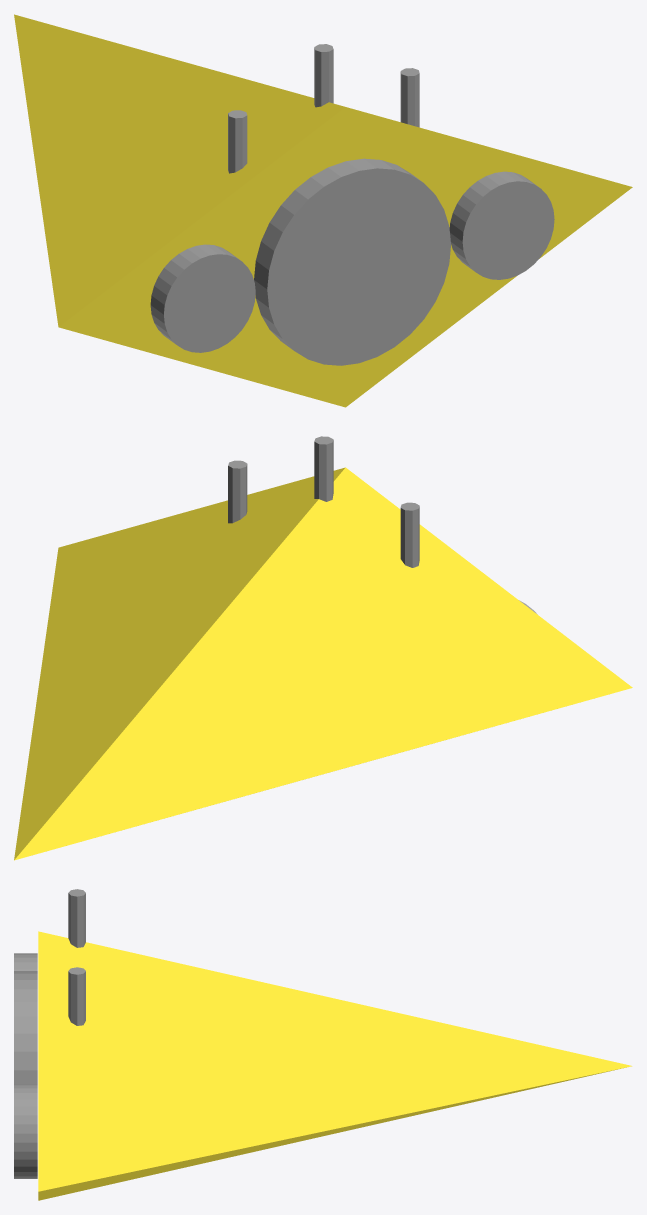
Rendered from spaceship.glb.
3 views of the same model, one above another, from view 1: azimuth 30°, elevation 25°; view 2: azimuth 150°, elevation 25°; view 3: azimuth 270°, elevation 25° (orthographic). The views are drawn at different scales.
Visible parts, largest first — view 1: shipBody, mainThruster, smallThruster, sideAntenna, Antenna; view 2: shipBody, sideAntenna, Antenna; view 3: shipBody, smallThruster, mainThruster, sideAntenna, Antenna.
Boxes of the visible parts, x1,y1,x2,y2 form: shipBody: [14, 14, 632, 407]; mainThruster: [254, 158, 450, 365]; smallThruster: [150, 171, 554, 352]; sideAntenna: [228, 68, 419, 173]; Antenna: [314, 44, 333, 107]; shipBody: [14, 467, 632, 860]; sideAntenna: [228, 460, 419, 567]; Antenna: [314, 436, 333, 501]; shipBody: [38, 931, 632, 1200]; smallThruster: [14, 953, 37, 1178]; mainThruster: [14, 971, 37, 1083]; sideAntenna: [68, 967, 85, 1025]; Antenna: [68, 889, 85, 947].
Bounding box in the file's own units: 2 × 1.14 × 2.08.
